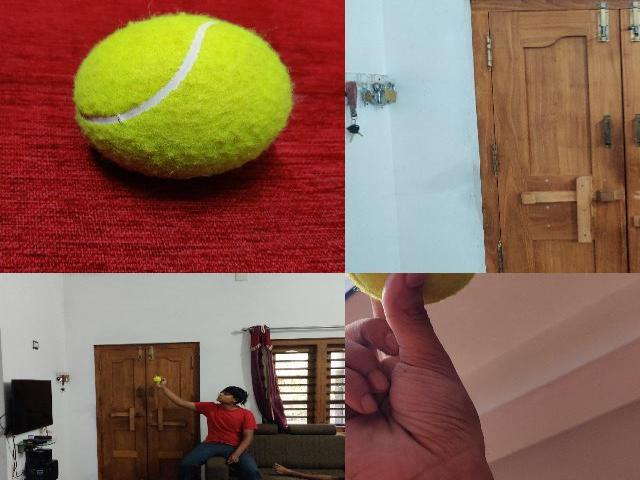tennis-ball: (72, 12, 295, 179), (345, 273, 482, 306), (153, 376, 161, 382)
